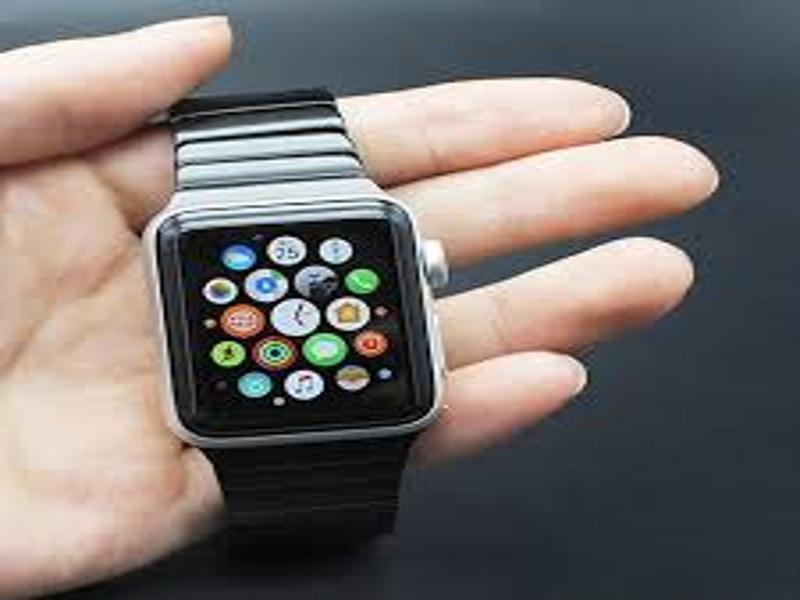watch: (140, 87, 454, 545)
